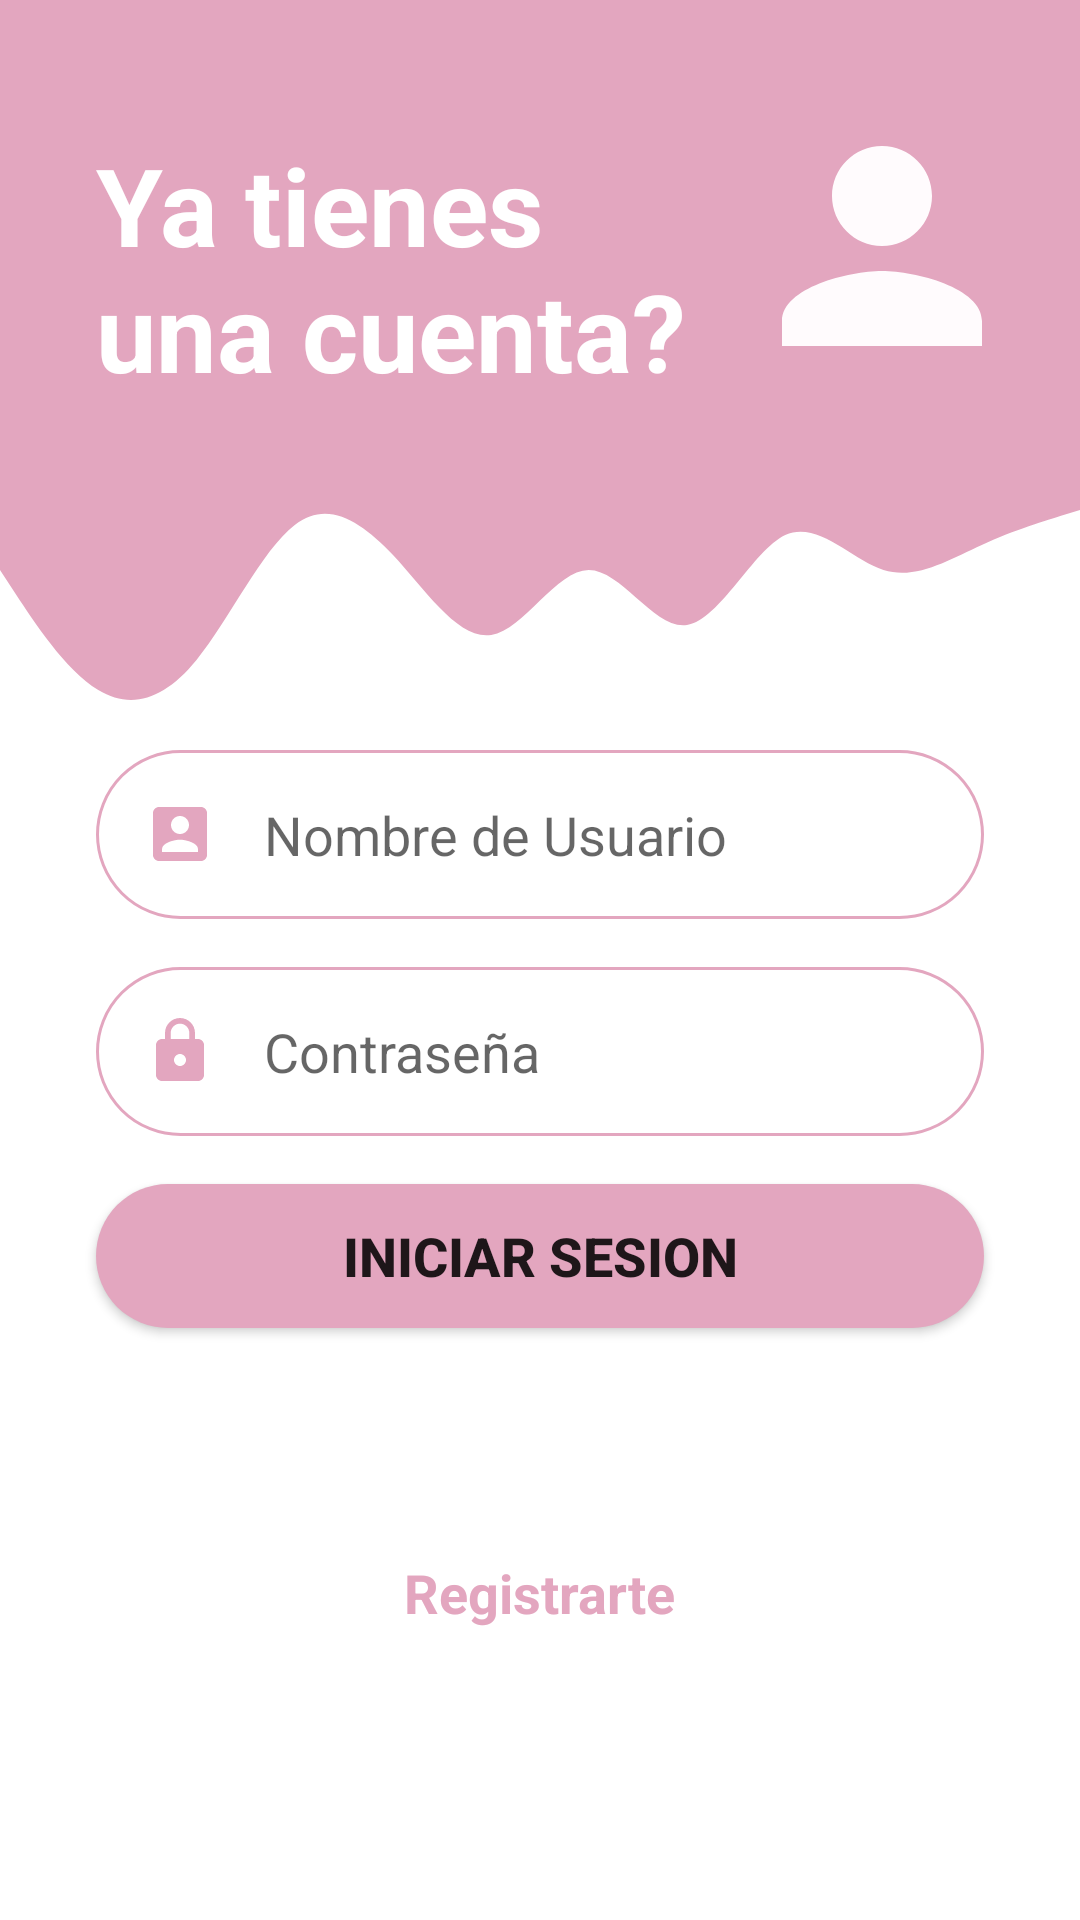

Named icons in this screenshot (1080x1920) and their bounding boxes, region(x1, y1, x2, y2):
person: region(782, 146, 982, 346)
